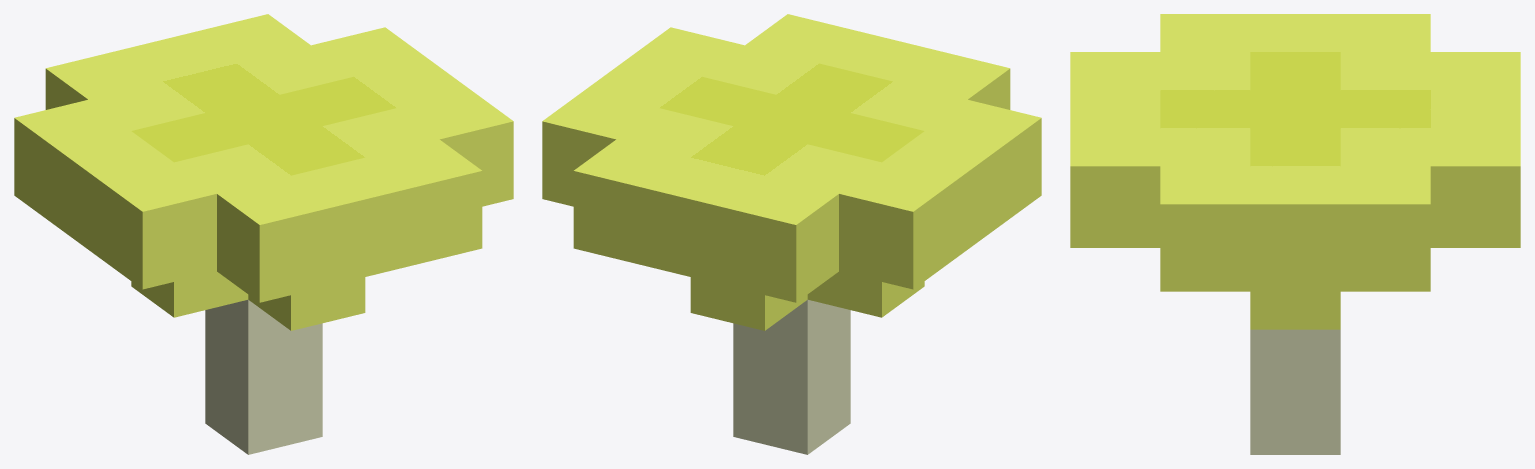
Rendered from mushroom4.obj.
3 views of the same model, side by side, from view 1: azimuth 30°, elevation 25°; view 2: azimuth 150°, elevation 25°; view 3: azimuth 270°, elevation 25° (orthographic). The views are drawn at different scales.
Parts seen in each view (by area): view 1: YellowMushroom; view 2: YellowMushroom; view 3: YellowMushroom.
Boxes of the visible parts, left/top/right/bottom form: YellowMushroom: left=14, top=14, right=513, bottom=454; YellowMushroom: left=542, top=14, right=1041, bottom=454; YellowMushroom: left=1070, top=14, right=1520, bottom=454.
Size of the model in its own units: 5 by 4 by 5.
Materials: 1 (1 with a texture image).
